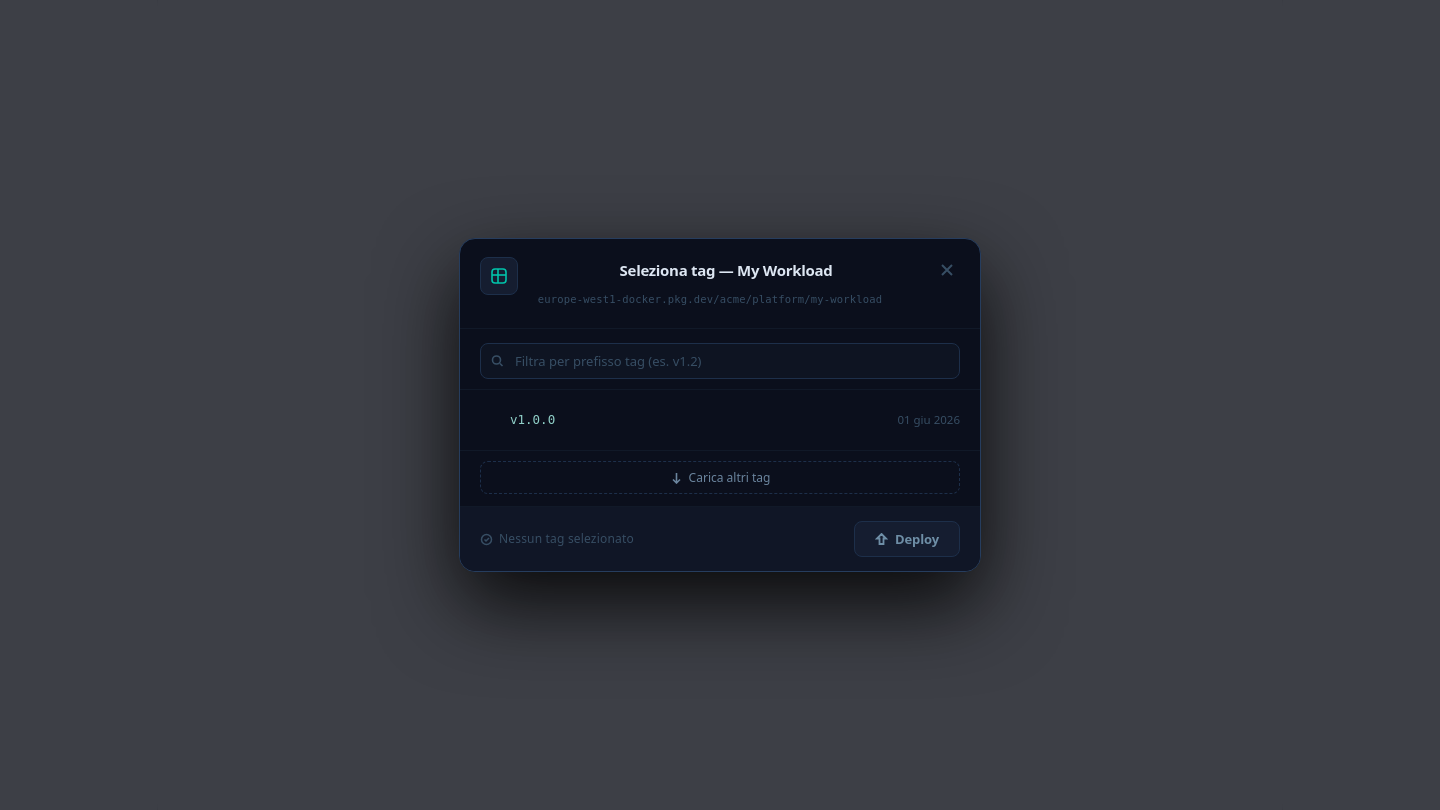
Test: DeployDialog › load more appends tags and hides button when no next token
The width and height of the screenshot is (1440, 810).
Expected: the text "v1.0.0" is shown, [510,412,555,427]
Click the button "Carica altri tag" at (720, 478), box [480,461,960,494]
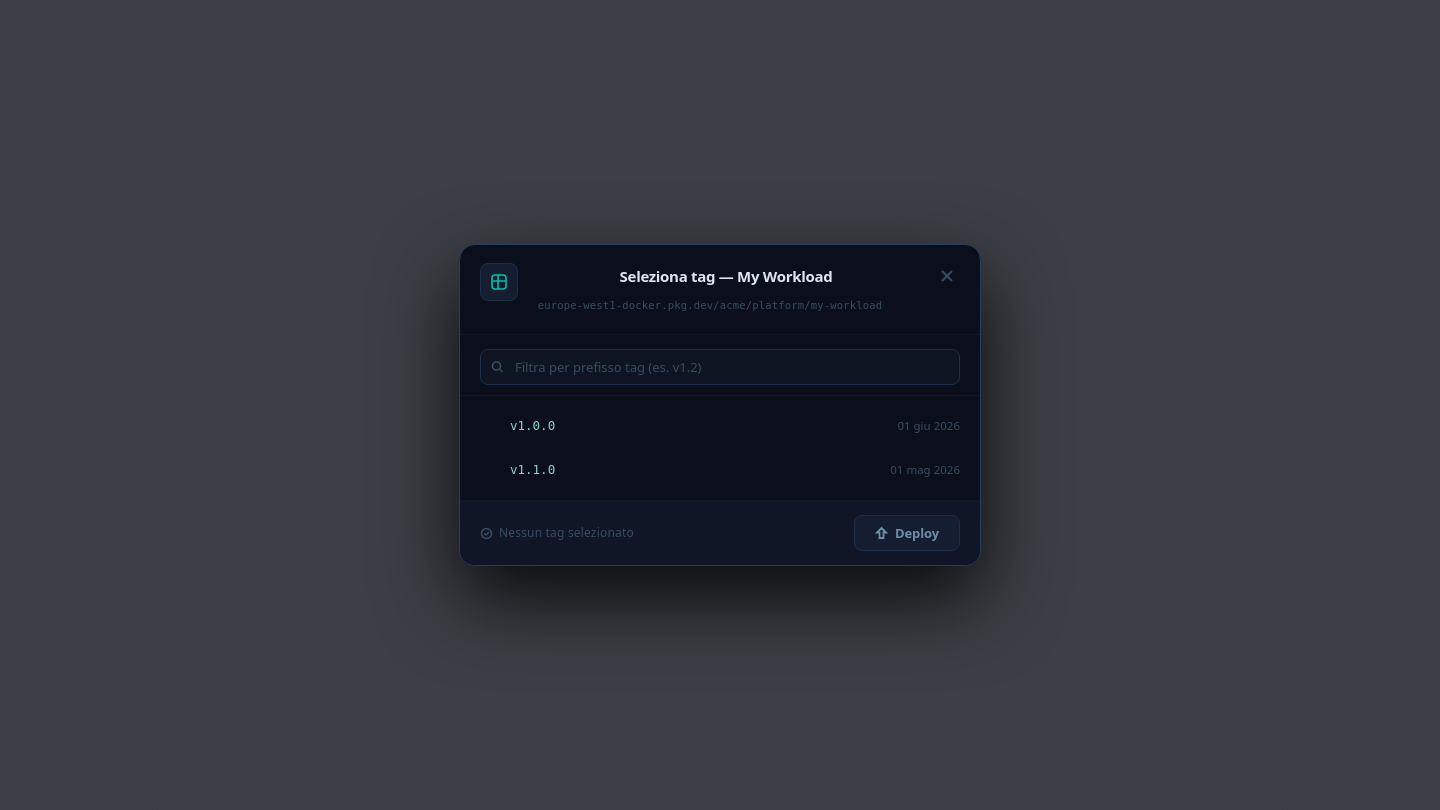
Expected: the text "v1.0.0" is shown, [510,418,555,433]
Now the text "v1.1.0" is shown, box [510,462,555,477]
Now the button "Carica altri tag" is gone
